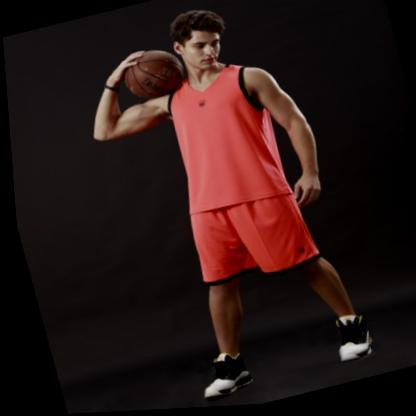basketball: (116, 44, 188, 106)
